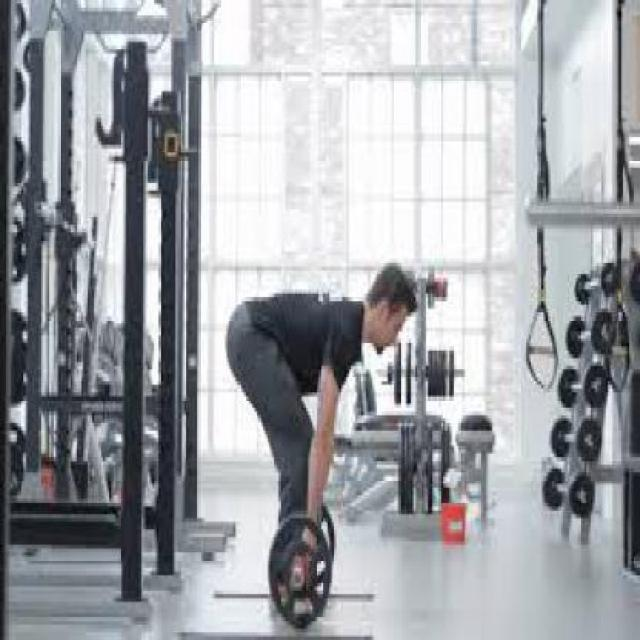Barbell: (289, 562, 306, 593)
